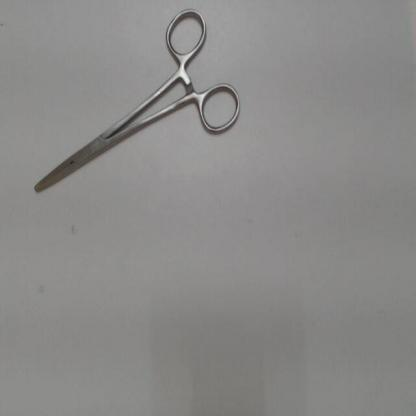Mayo Needle Holder: (26, 0, 246, 205)
